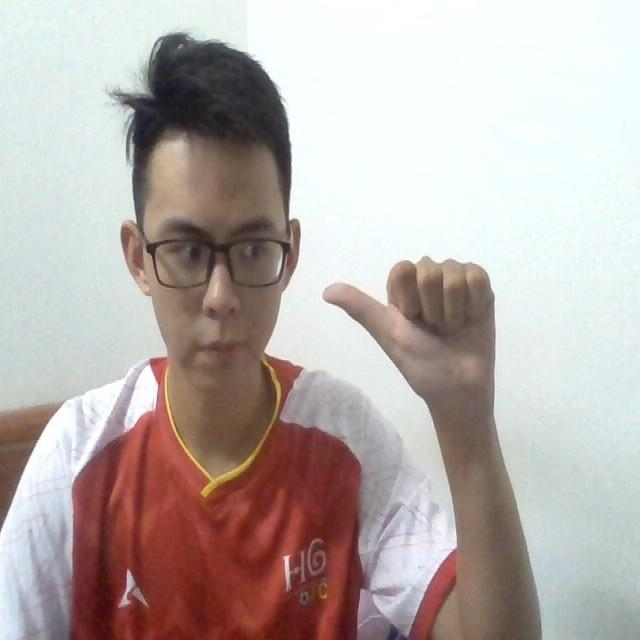A: (318, 249, 501, 408)
